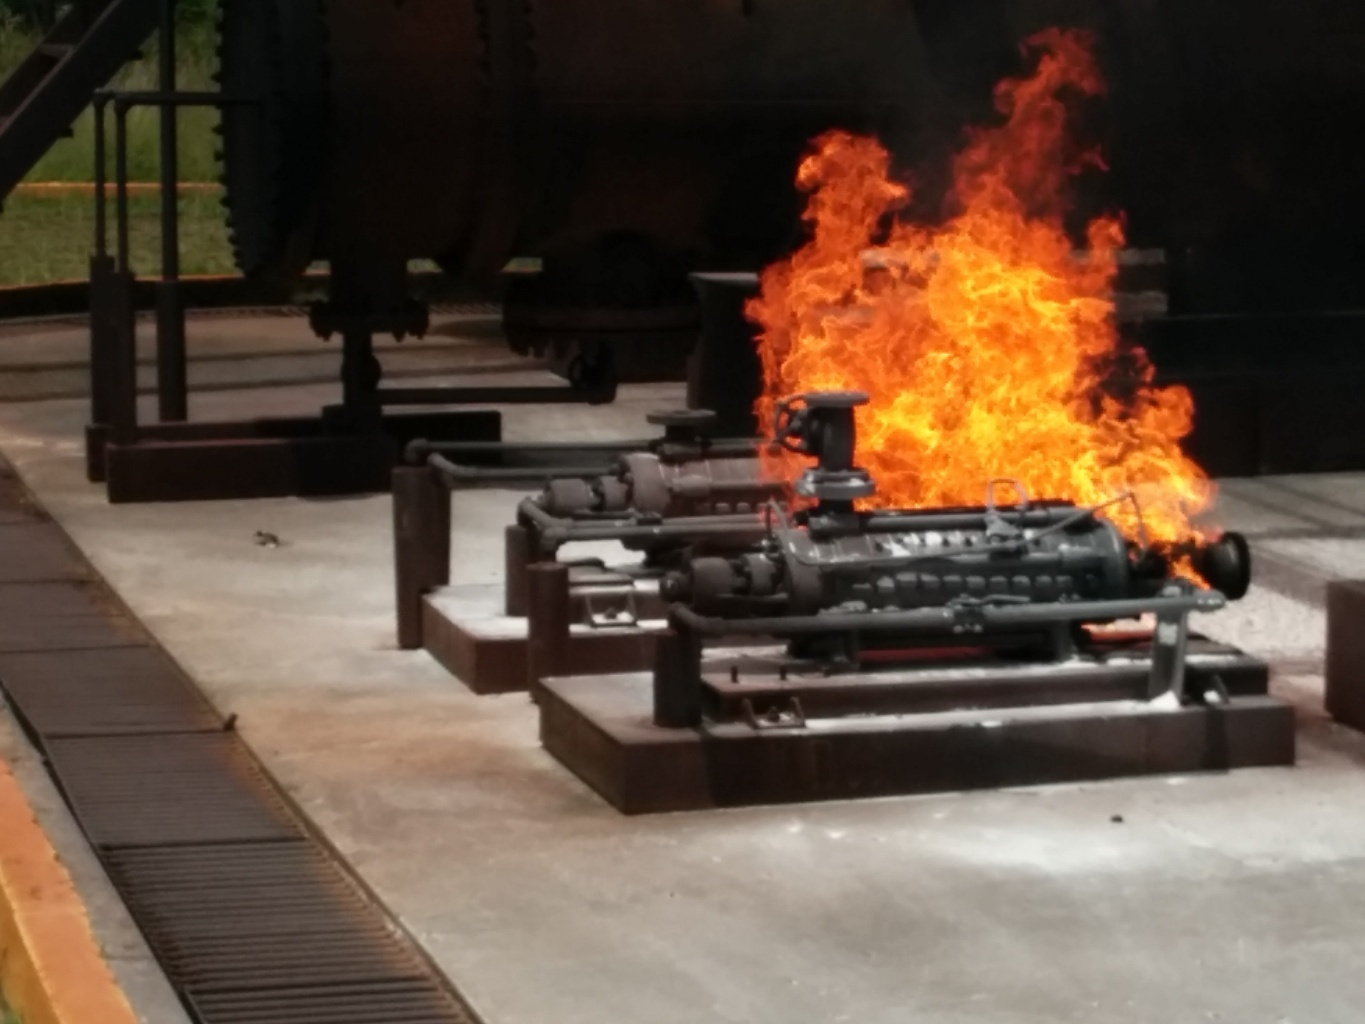fire: (748, 27, 1239, 605)
